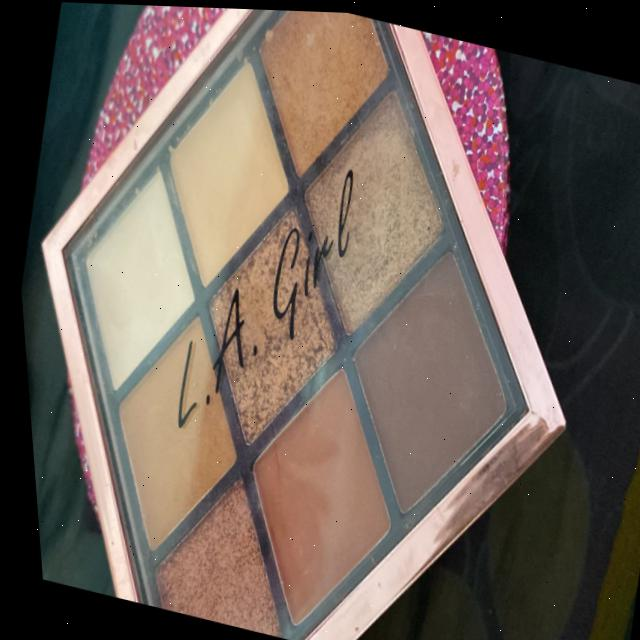eye shade: (0, 0, 634, 640)
